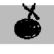not correct: (13, 3, 46, 41)
